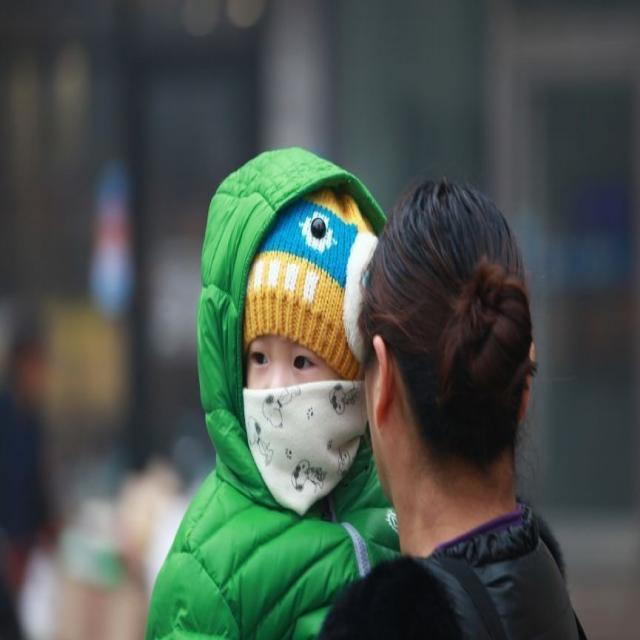mask: (245, 294, 351, 482)
